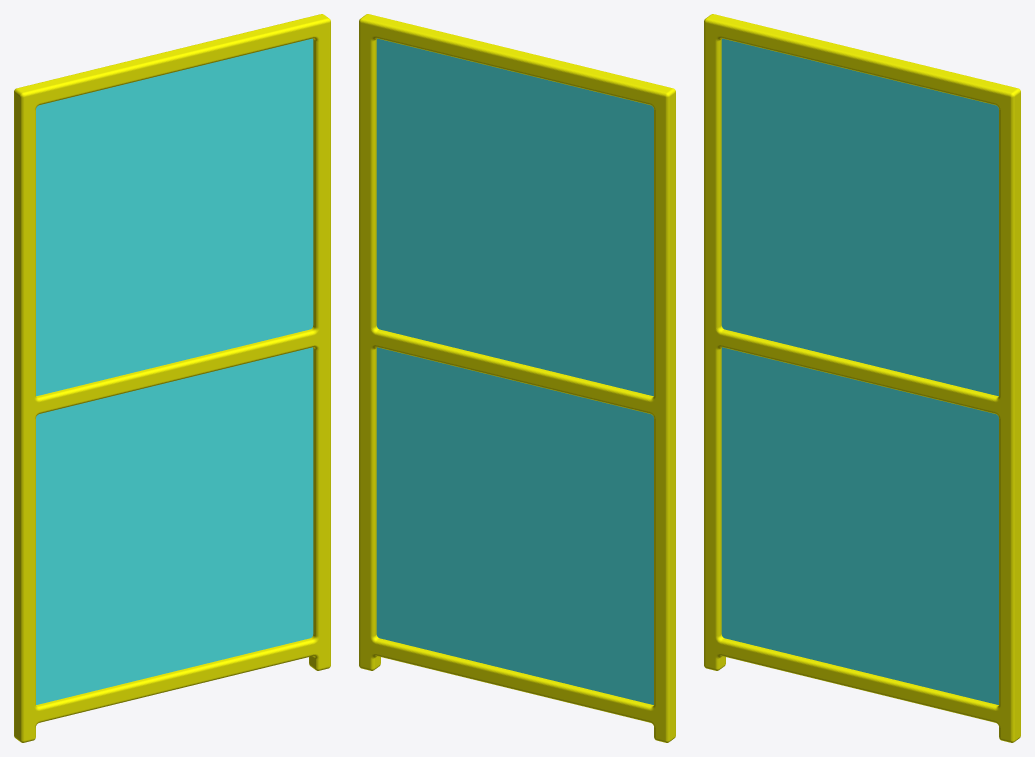
Rendered from Panel_2m_1m.dae.
The picture shows the model from 3 angles, left to right: view 1: azimuth 30°, elevation 25°; view 2: azimuth 150°, elevation 25°; view 3: azimuth 330°, elevation 25°; orthographic projection.
Parts seen in each view (by area): view 1: node0, node2, node1; view 2: node0, node2, node1; view 3: node2, node0, node1.
Boxes of the visible parts, x1=… form: node0: x1=36, y1=347, x2=313, y2=704; node2: x1=36, y1=38, x2=313, y2=396; node1: x1=14, y1=14, x2=330, y2=742; node0: x1=376, y1=347, x2=653, y2=704; node2: x1=376, y1=38, x2=653, y2=396; node1: x1=359, y1=14, x2=675, y2=742; node2: x1=721, y1=38, x2=998, y2=396; node0: x1=721, y1=347, x2=998, y2=704; node1: x1=704, y1=14, x2=1020, y2=742.
Bounding box in the file's own units: 1 × 0.05 × 2.
